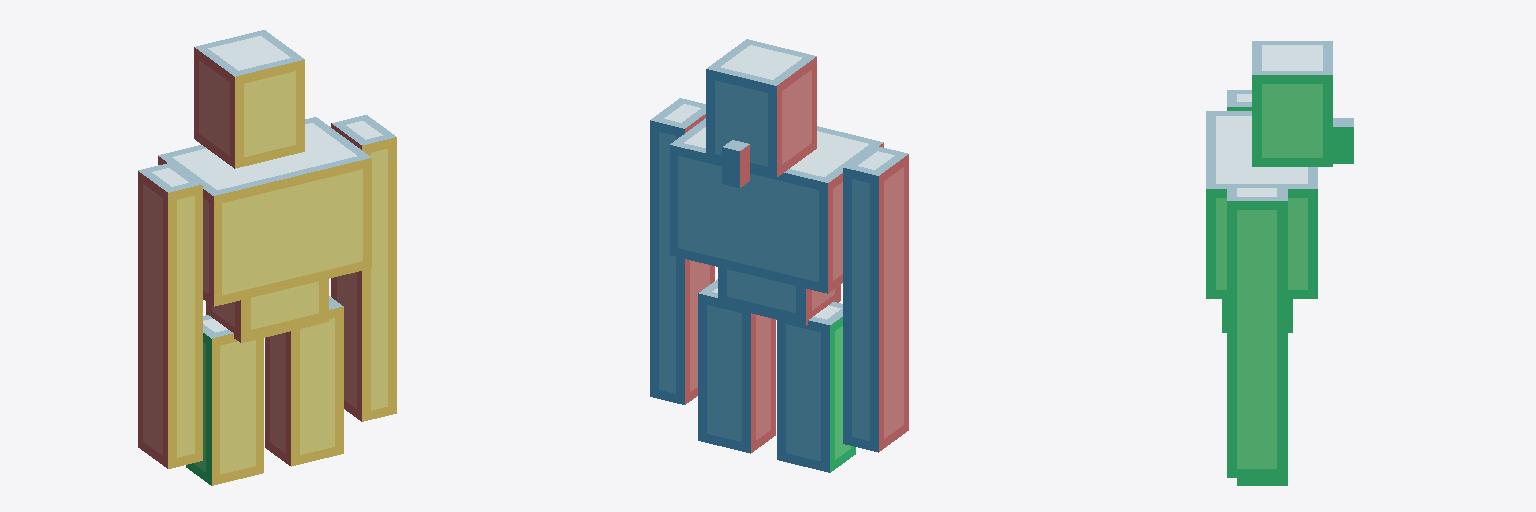
3 renders of one model, left to right at view 1: azimuth 30°, elevation 25°; view 2: azimuth 150°, elevation 25°; view 3: azimuth 270°, elevation 25°, orthographic.
Parts seen in each view (by area): view 1: body, arm1, head, arm0, leg0, leg1; view 2: body, arm1, head, arm0, leg0, leg1; view 3: arm0, head, body, arm1.
Boxes of the visible parts, <box> form: body: <box>158,117,371,342</box>; arm1: <box>138,162,202,468</box>; head: <box>194,30,304,168</box>; arm0: <box>331,115,396,421</box>; leg0: <box>265,296,343,466</box>; leg1: <box>186,315,263,485</box>; body: <box>670,118,883,326</box>; arm1: <box>843,145,908,452</box>; head: <box>706,39,816,187</box>; arm0: <box>650,98,714,404</box>; leg0: <box>698,279,775,453</box>; leg1: <box>777,302,855,472</box>; arm0: <box>1227,184,1287,477</box>; head: <box>1252,41,1353,166</box>; body: <box>1206,111,1317,332</box>; arm1: <box>1227,90,1251,110</box>.
Bounding box in the file's own units: 1.62 × 2.69 × 0.9062.
1 materials, 1 textured.